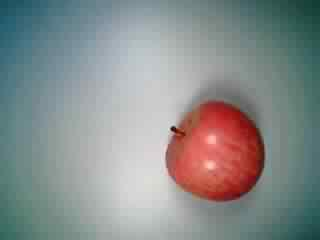apple: (160, 100, 267, 204)
